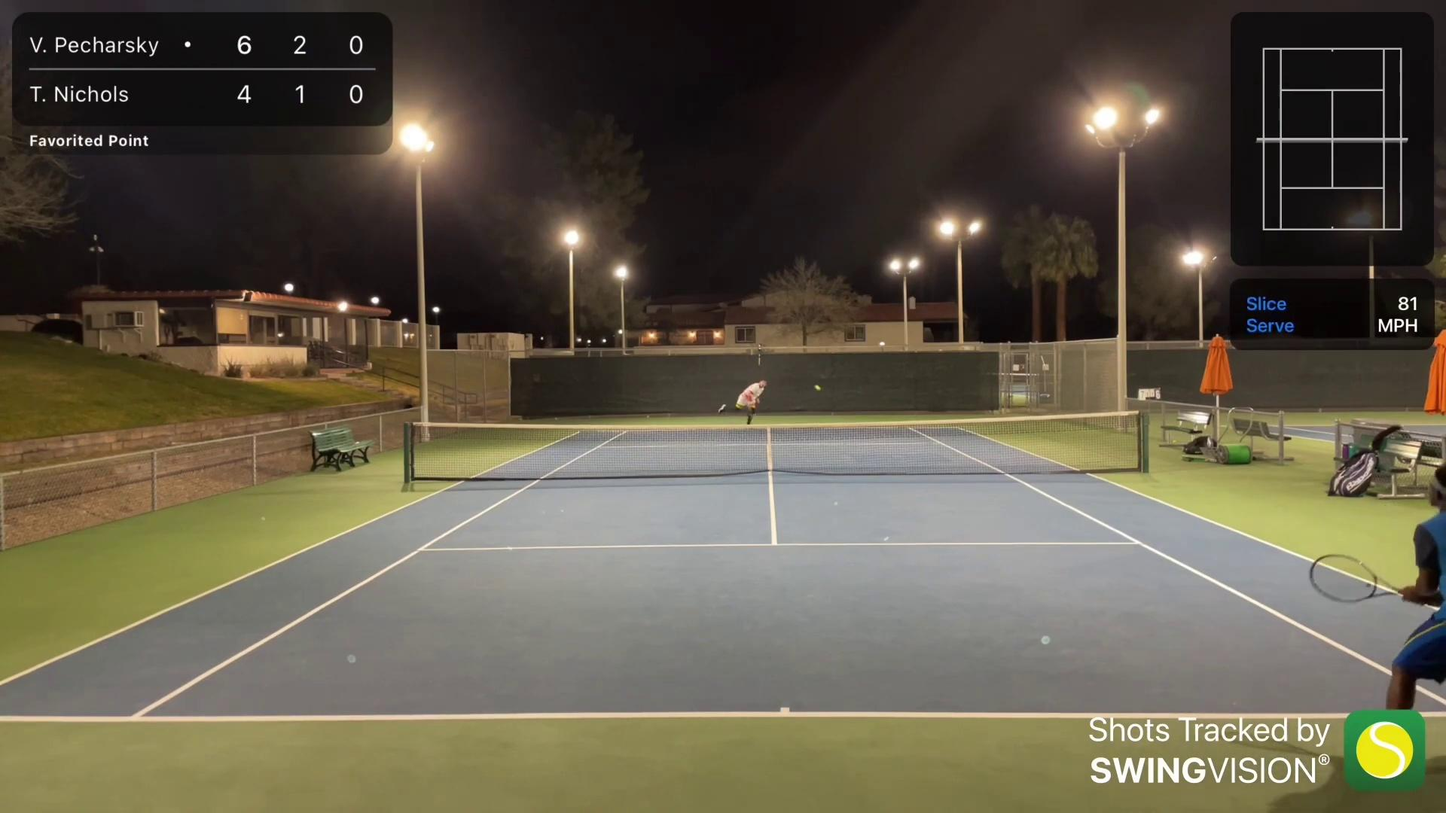ball: (816, 387, 823, 392)
